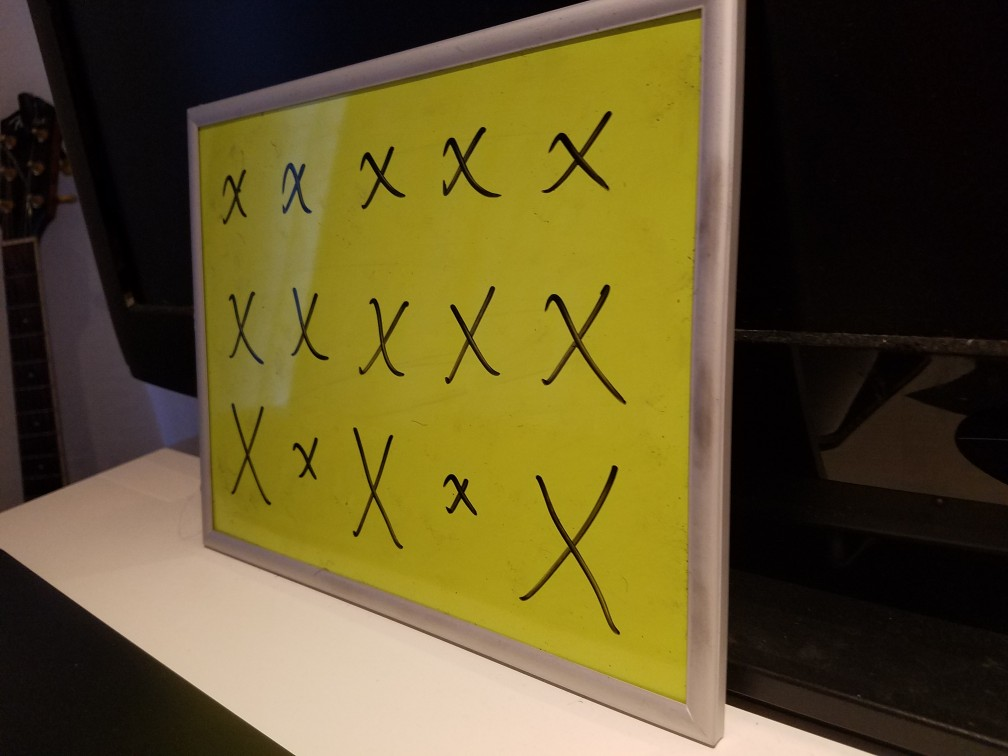x: (520, 442, 620, 639), (533, 264, 633, 409), (535, 103, 645, 218), (334, 406, 412, 562), (435, 265, 512, 392), (430, 111, 517, 217), (345, 127, 416, 227), (221, 391, 277, 506), (353, 279, 412, 388), (285, 269, 332, 375), (217, 279, 264, 376), (274, 148, 320, 238), (435, 464, 488, 526), (212, 160, 252, 236), (286, 429, 324, 486)
